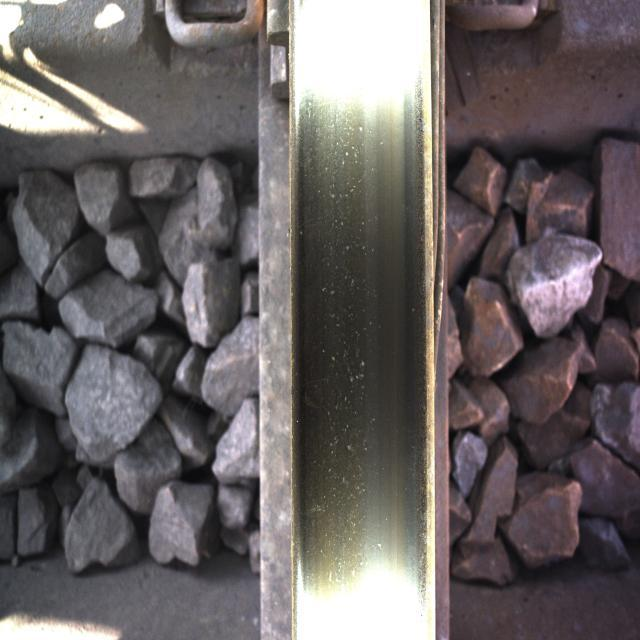normal: (297, 40, 413, 598)
